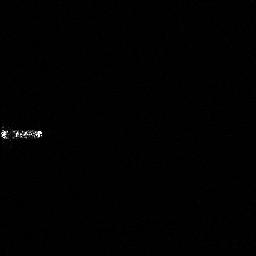ship: (1, 124, 47, 144)
